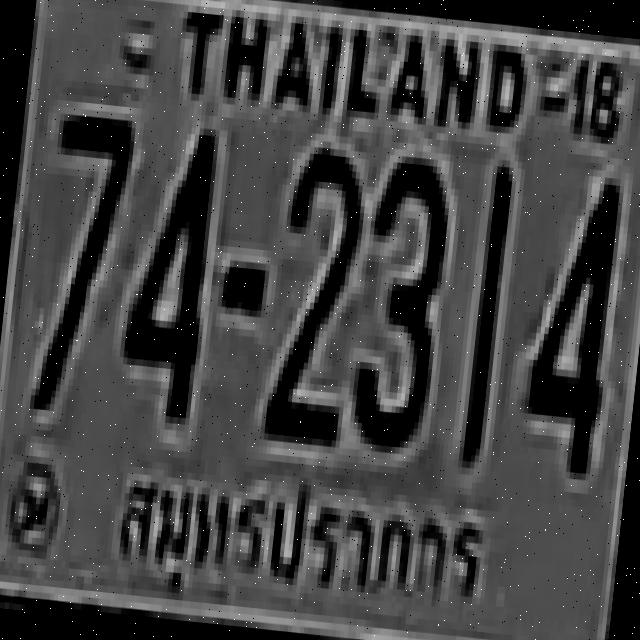1: (456, 162, 512, 466)
2: (264, 138, 366, 440)
3: (344, 146, 451, 449)
4: (115, 115, 218, 418), (518, 168, 621, 470)
7: (29, 106, 132, 408)
SamutPrakan: (98, 441, 504, 640)
